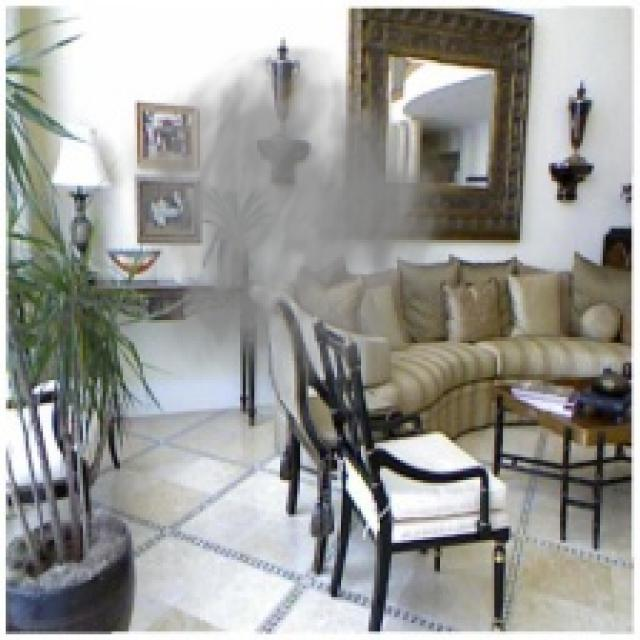smoke: (120, 43, 474, 431)
